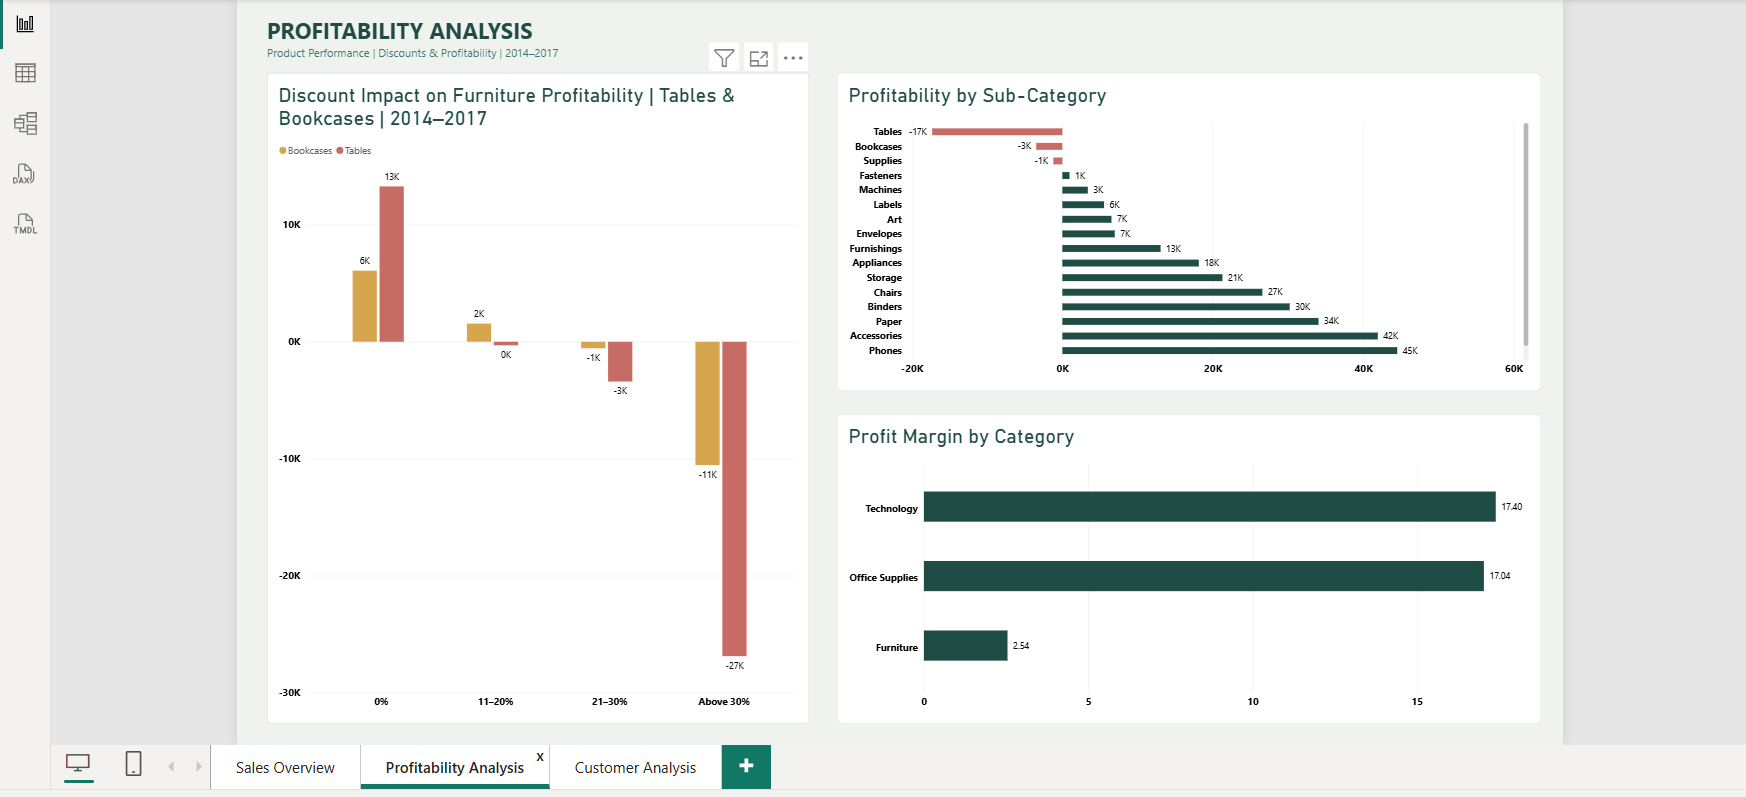

The page's visual inventory and layout, read from the dashboard file:
{"tool":"powerbi","page":{"name":"Profitability Analysis","canvas":[1920,1080],"ordinal":1},"visuals":[{"type":"clusteredBarChart","title":"Profitability by Sub-Category","fields":{"Category":["Superstore.Sub_Category"],"Y":["Superstore.Total Profit"]},"box":[868.6,107,1018.9,461.1],"z":0},{"type":"textbox","box":[43.2,22.6,1018.9,84.4],"z":1},{"type":"clusteredBarChart","title":"Profit Margin by Category","fields":{"Category":["Superstore.Category"],"Y":["Superstore.Total Margin"]},"box":[868.6,601,1018.9,448.7],"z":2},{"type":"clusteredColumnChart","title":"Discount Impact on Furniture Profitability | Tables & Bookcases | 2014–2017","fields":{"Category":["Superstore.Discount Range"],"Series":["Superstore.Sub_Category"],"Y":["Superstore.Total Profit"]},"box":[43.2,107,786.3,942.7],"z":3}]}

Visuals, with their boxes on the page's 1920x1080 design canvas (x1, y1, x2, y2). These are canvas units, not pixel positions in the 1746x797 screenshot, which may show the page scaled, cropped or inside an application window:
"Profitability by Sub-Category" clusteredBarChart: [left=869, top=107, right=1888, bottom=568]
textbox: [left=43, top=23, right=1062, bottom=107]
"Profit Margin by Category" clusteredBarChart: [left=869, top=601, right=1888, bottom=1050]
"Discount Impact on Furniture Profitability | Tables & Bookcases | 2014–2017" clusteredColumnChart: [left=43, top=107, right=830, bottom=1050]
